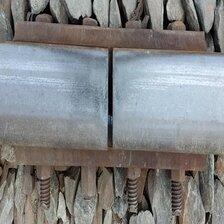railway-gap: (52, 38, 167, 155)
